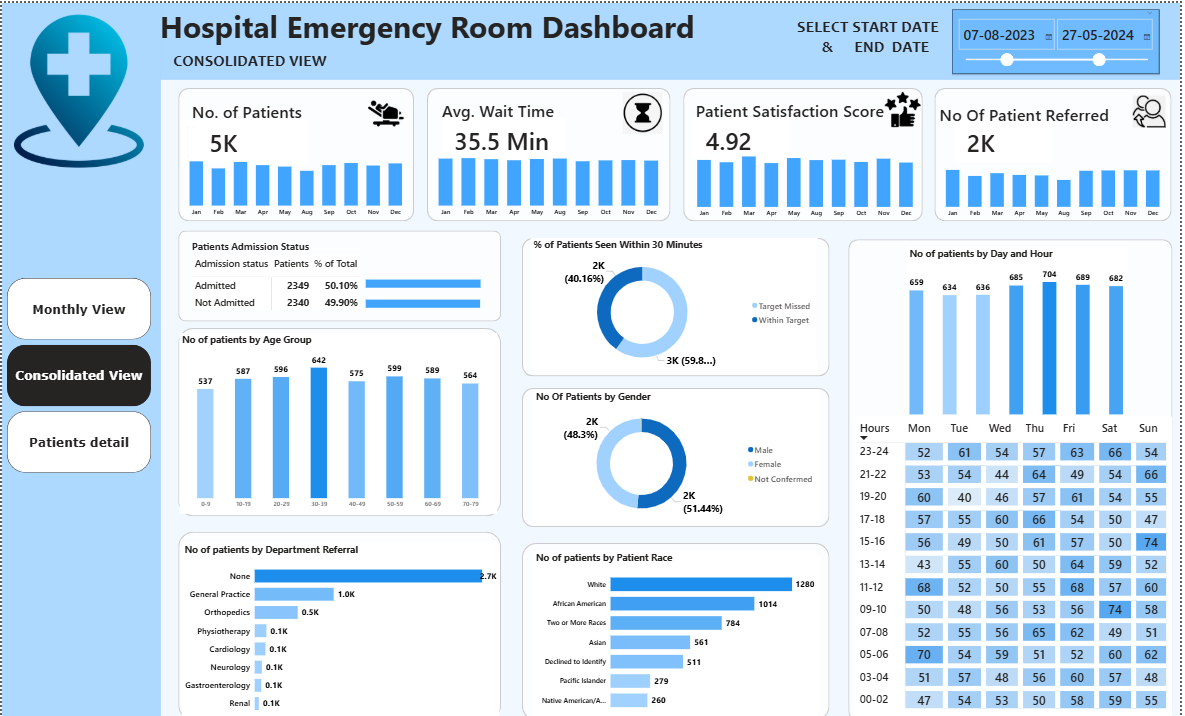

The page's visual inventory and layout, read from the dashboard file:
{"tool":"powerbi","page":{"name":"Consolidated View ","canvas":[2300,1400],"ordinal":1},"visuals":[{"type":"shape","box":[0,0,310,1400],"z":0},{"type":"shape","box":[310,0,1990,150],"z":1000},{"type":"shape","box":[345,165,460,260],"z":2000},{"type":"textbox","box":[292,0,1074,88],"z":3000},{"type":"textbox","box":[328.9,88.9,420,57.8],"z":4000},{"type":"cardVisual","fields":{"Data":["Hospital_data.No of patients"]},"box":[344,224,202,96],"z":5000},{"type":"slicer","fields":{"Values":["Date Table.Date"]},"box":[1853.3,11.1,404.4,126.7],"z":6000},{"type":"shape","box":[1820,165,462.5,260],"z":7000},{"type":"shape","box":[830,165,475,260],"z":8000},{"type":"shape","box":[1330,165,467.5,260],"z":9000},{"type":"textbox","box":[366,186,242,68],"z":10000},{"type":"cardVisual","fields":{"Data":["Hospital_data.No of patients"]},"box":[375,222.5,225,97.5],"z":11000},{"type":"cardVisual","fields":{"Data":["Hospital_data.No of patients referral"]},"box":[1852.5,222.5,202.5,95],"z":12000},{"type":"cardVisual","fields":{"Data":["Avg(Hospital_data.Patient Satisfaction Score)"]},"box":[1345,217.5,202.5,97.5],"z":13000},{"type":"cardVisual","fields":{"Data":["Hospital_data.Average Wait Time"]},"box":[854,220,252,96],"z":14000},{"type":"columnChart","fields":{"Category":["Date Table.Month name"],"Y":["Hospital_data.Patient satisfctionscore"]},"box":[1333.3,272.5,466.7,154.9],"z":15000},{"type":"columnChart","fields":{"Y":["Hospital_data.No of patients referral"],"Category":["Date Table.Month name"]},"box":[1820,282.5,462.5,145],"z":16000},{"type":"textbox","box":[1348,184,398,60],"z":17000},{"type":"columnChart","fields":{"Y":["Avg(Hospital_data.Patient Waittime)"],"Category":["Date Table.Month name"]},"box":[830,280,475,145],"z":18000},{"type":"textbox","box":[854,184,268,88],"z":19000},{"type":"textbox","box":[1825,190,372.5,60],"z":20000},{"type":"shape","box":[345,445,630,177.5],"z":21000},{"type":"columnChart","fields":{"Y":["Hospital_data.No of patients"],"Category":["Date Table.Month name"]},"box":[345,280,460,145],"z":22000},{"type":"pivotTable","title":"Patients Admission Status ","fields":{"Rows":["Hospital_data.Admission status"],"Values":["Hospital_data.No of patients1","Hospital_data.No of patients"]},"box":[365,460,440,150],"z":23000},{"type":"barChart","fields":{"Category":["Hospital_data.Admission status"],"Y":["Hospital_data.No of patients"]},"box":[705.8,507.7,296.2,115.4],"z":24000},{"type":"shape","box":[345,635,630,367.5],"z":25000},{"type":"clusteredColumnChart","fields":{"Category":["Hospital_data.Age Group"],"Y":["Hospital_data.No of patients"]},"box":[347.5,645,620,352.5],"z":26000},{"type":"shape","box":[345,1032.5,630,367.5],"z":27000},{"type":"clusteredBarChart","fields":{"Category":["Hospital_data.Department Referral"],"Y":["Hospital_data.No of patients"]},"box":[350,1053.8,619.2,346.2],"z":28000},{"type":"shape","box":[1015,457.5,600,270],"z":29000},{"type":"donutChart","title":"% of Patients Seen Within 30 Minutes ","fields":{"Category":["Hospital_data.Wait time status"],"Y":["Hospital_data.No of patients"]},"box":[1030.8,459.6,559.6,265.4],"z":30000},{"type":"shape","box":[1015.4,750,600,271.2],"z":31000},{"type":"donutChart","title":"No Of Patients by Gender","fields":{"Y":["Hospital_data.No of patients"],"Category":["Hospital_data.Patient Gender"]},"box":[1036.5,753.8,559.6,265.4],"z":32000},{"type":"shape","box":[1015.4,1053.8,600,346.2],"z":33000},{"type":"clusteredBarChart","box":[1046.2,1080.8,550,303.8],"z":34000},{"type":"clusteredBarChart","title":"No of patients by Patient Race","fields":{"Y":["Hospital_data.No of patients"],"Category":["Hospital_data.Patient Race"]},"box":[1036.5,1067.3,553.8,326.9],"z":35000},{"type":"shape","box":[1650,460,632.5,940],"z":36000},{"type":"pivotTable","fields":{"Rows":["Hospital_data.Waittime Intervals"],"Columns":["Date Table.Day Name"],"Values":["Hospital_data.No of patients"]},"box":[1662.5,807.5,620,585],"z":37000},{"type":"columnChart","title":"No of patients by Day and Hour","fields":{"Category":["Date Table.Day Name"],"Y":["Hospital_data.No of patients"]},"box":[1766.7,475.6,428.9,333.3],"z":38000},{"type":"image","box":[0,22.9,300,300],"z":39000},{"type":"image","box":[692.5,180,112.5,70],"z":40000},{"type":"image","box":[1190,172.5,120,82.5],"z":41000},{"type":"image","box":[1722.5,167.5,71,80],"z":42000},{"type":"image","box":[2195.6,180,86.7,62.2],"z":43000},{"type":"textbox","box":[1546.7,22.2,420,106.7],"z":44000},{"type":"pageNavigator","box":[10.4,535.4,281.2,381.2],"z":45000}]}

Visuals, with their boxes in screenshot pixels (x1, y1, x2, y2), scaled from the page's 2300x1400 canvas onto the 1185x716 screenshot:
shape: <box>0,0,160,715</box>
shape: <box>160,0,1184,77</box>
shape: <box>178,84,415,217</box>
textbox: <box>150,0,704,45</box>
textbox: <box>169,45,386,75</box>
cardVisual - Hospital_data.No of patients: <box>177,115,281,164</box>
slicer - Date Table.Date: <box>955,6,1163,70</box>
shape: <box>938,84,1176,217</box>
shape: <box>428,84,672,217</box>
shape: <box>685,84,926,217</box>
textbox: <box>189,95,313,130</box>
cardVisual - Hospital_data.No of patients: <box>193,114,309,164</box>
cardVisual - Hospital_data.No of patients referral: <box>954,114,1059,162</box>
cardVisual - Avg(Hospital_data.Patient Satisfaction Score): <box>693,111,797,161</box>
cardVisual - Hospital_data.Average Wait Time: <box>440,113,570,162</box>
columnChart - Date Table.Month name x Hospital_data.Patient satisfctionscore: <box>687,139,927,219</box>
columnChart - Hospital_data.No of patients referral x Date Table.Month name: <box>938,144,1176,219</box>
textbox: <box>695,94,900,125</box>
columnChart - Avg(Hospital_data.Patient Waittime) x Date Table.Month name: <box>428,143,672,217</box>
textbox: <box>440,94,578,139</box>
textbox: <box>940,97,1132,128</box>
shape: <box>178,228,502,318</box>
columnChart - Hospital_data.No of patients x Date Table.Month name: <box>178,143,415,217</box>
"Patients Admission Status " pivotTable: <box>188,235,415,312</box>
barChart - Hospital_data.Admission status x Hospital_data.No of patients: <box>364,260,516,319</box>
shape: <box>178,325,502,513</box>
clusteredColumnChart - Hospital_data.Age Group x Hospital_data.No of patients: <box>179,330,498,510</box>
shape: <box>178,528,502,715</box>
clusteredBarChart - Hospital_data.Department Referral x Hospital_data.No of patients: <box>180,539,499,715</box>
shape: <box>523,234,832,372</box>
"% of Patients Seen Within 30 Minutes " donutChart: <box>531,235,819,371</box>
shape: <box>523,384,832,522</box>
"No Of Patients by Gender" donutChart: <box>534,386,822,521</box>
shape: <box>523,539,832,715</box>
clusteredBarChart: <box>539,553,822,708</box>
"No of patients by Patient Race" clusteredBarChart: <box>534,546,819,713</box>
shape: <box>850,235,1176,715</box>
pivotTable - Hospital_data.Waittime Intervals x Date Table.Day Name: <box>857,413,1176,712</box>
"No of patients by Day and Hour" columnChart: <box>910,243,1131,414</box>
image: <box>0,12,155,165</box>
image: <box>357,92,415,128</box>
image: <box>613,88,675,130</box>
image: <box>887,86,924,127</box>
image: <box>1131,92,1176,124</box>
textbox: <box>797,11,1013,66</box>
pageNavigator: <box>5,274,150,469</box>
